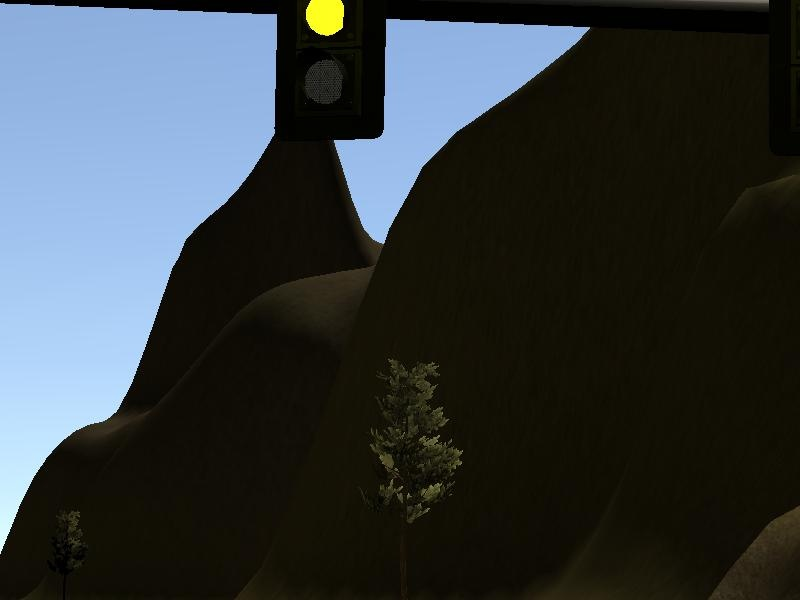yellow: (269, 1, 386, 147)
